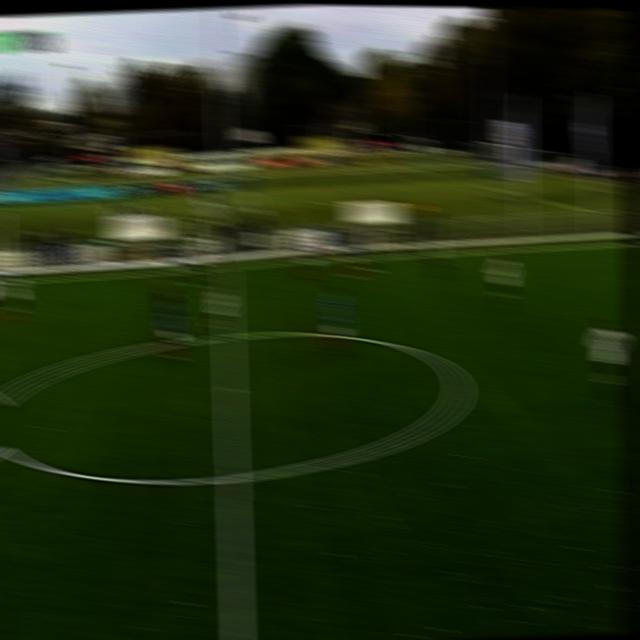halfcircle_bottom: (216, 465, 248, 500)
midline_top_intersection: (216, 261, 236, 275)
